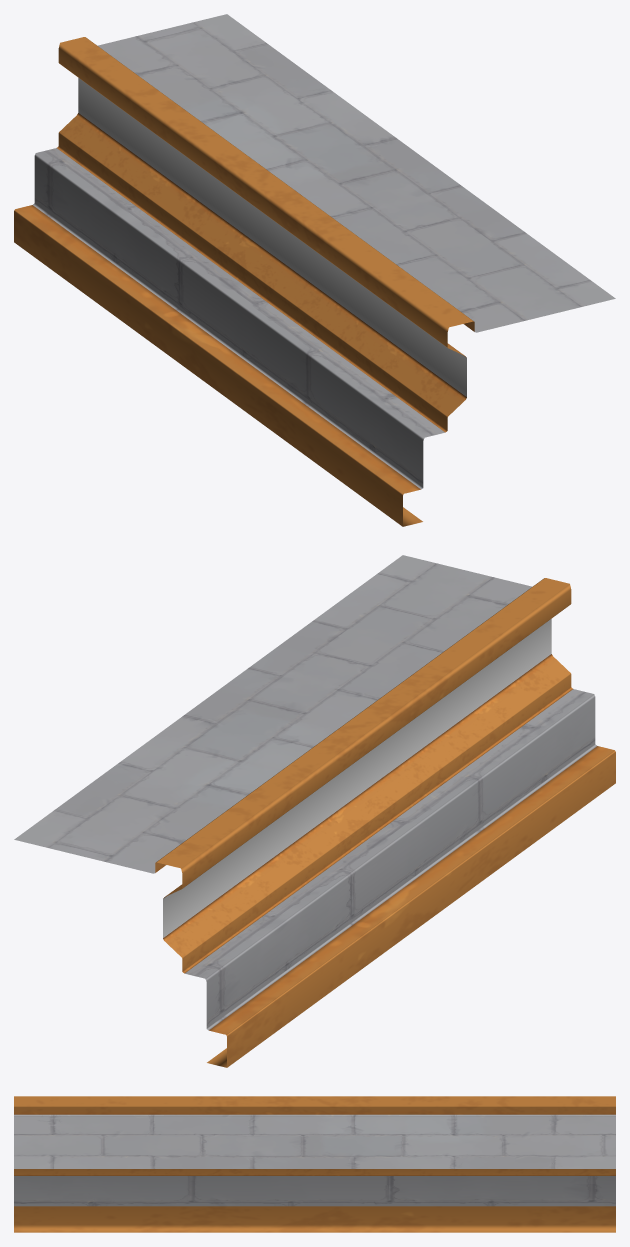
Rendered from SM_LowGround_Side.fbx.
The picture shows the model from 3 angles, top to bottom: view 1: azimuth 30°, elevation 25°; view 2: azimuth 150°, elevation 25°; view 3: azimuth 270°, elevation 25°; orthographic projection. The views are drawn at different scales.
Parts seen in each view (by area): view 1: SM_LowGround_Side; view 2: SM_LowGround_Side; view 3: SM_LowGround_Side.
Boxes of the visible parts, <box> form: SM_LowGround_Side: <box>14,14,615,526</box>; SM_LowGround_Side: <box>14,555,615,1067</box>; SM_LowGround_Side: <box>14,1096,615,1232</box>.
Size of the model in its own units: 1.27 by 1.07 by 4.
